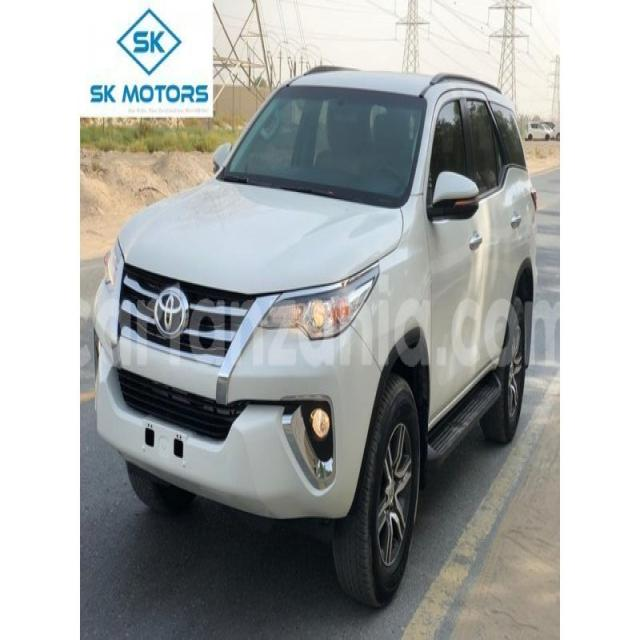light_vehicle: (91, 66, 539, 610)
